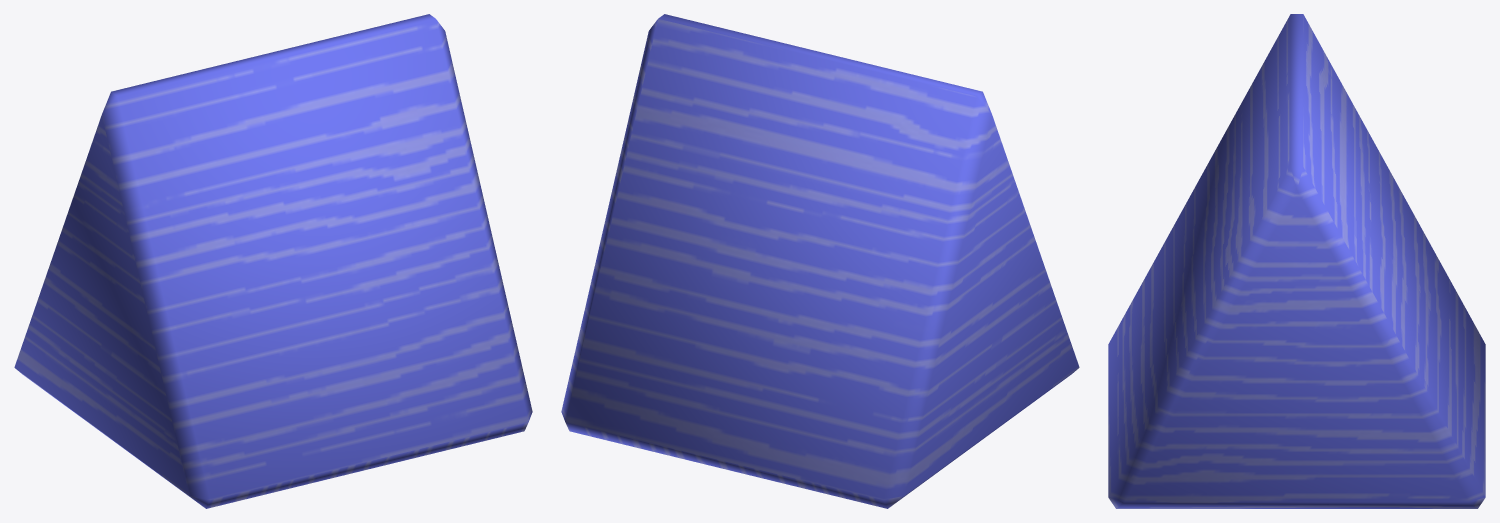
The model's file is wooden triangle prism.fbx.
The picture shows the model from 3 angles, left to right: view 1: azimuth 30°, elevation 25°; view 2: azimuth 150°, elevation 25°; view 3: azimuth 270°, elevation 25°; orthographic projection.
Visible parts, largest first — view 1: BLUE TRIANGLE; view 2: BLUE TRIANGLE; view 3: BLUE TRIANGLE.
Part boxes in pixels (<box>): BLUE TRIANGLE: <box>14,14,532,508</box>; BLUE TRIANGLE: <box>561,14,1079,508</box>; BLUE TRIANGLE: <box>1108,14,1485,508</box>.
Bounding box in the file's own units: 200 × 193 × 193.
